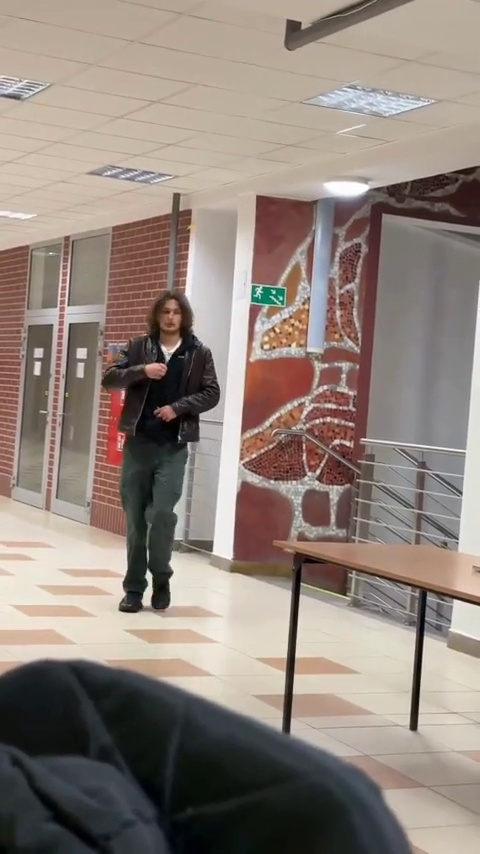no vest: (107, 294, 224, 611)
